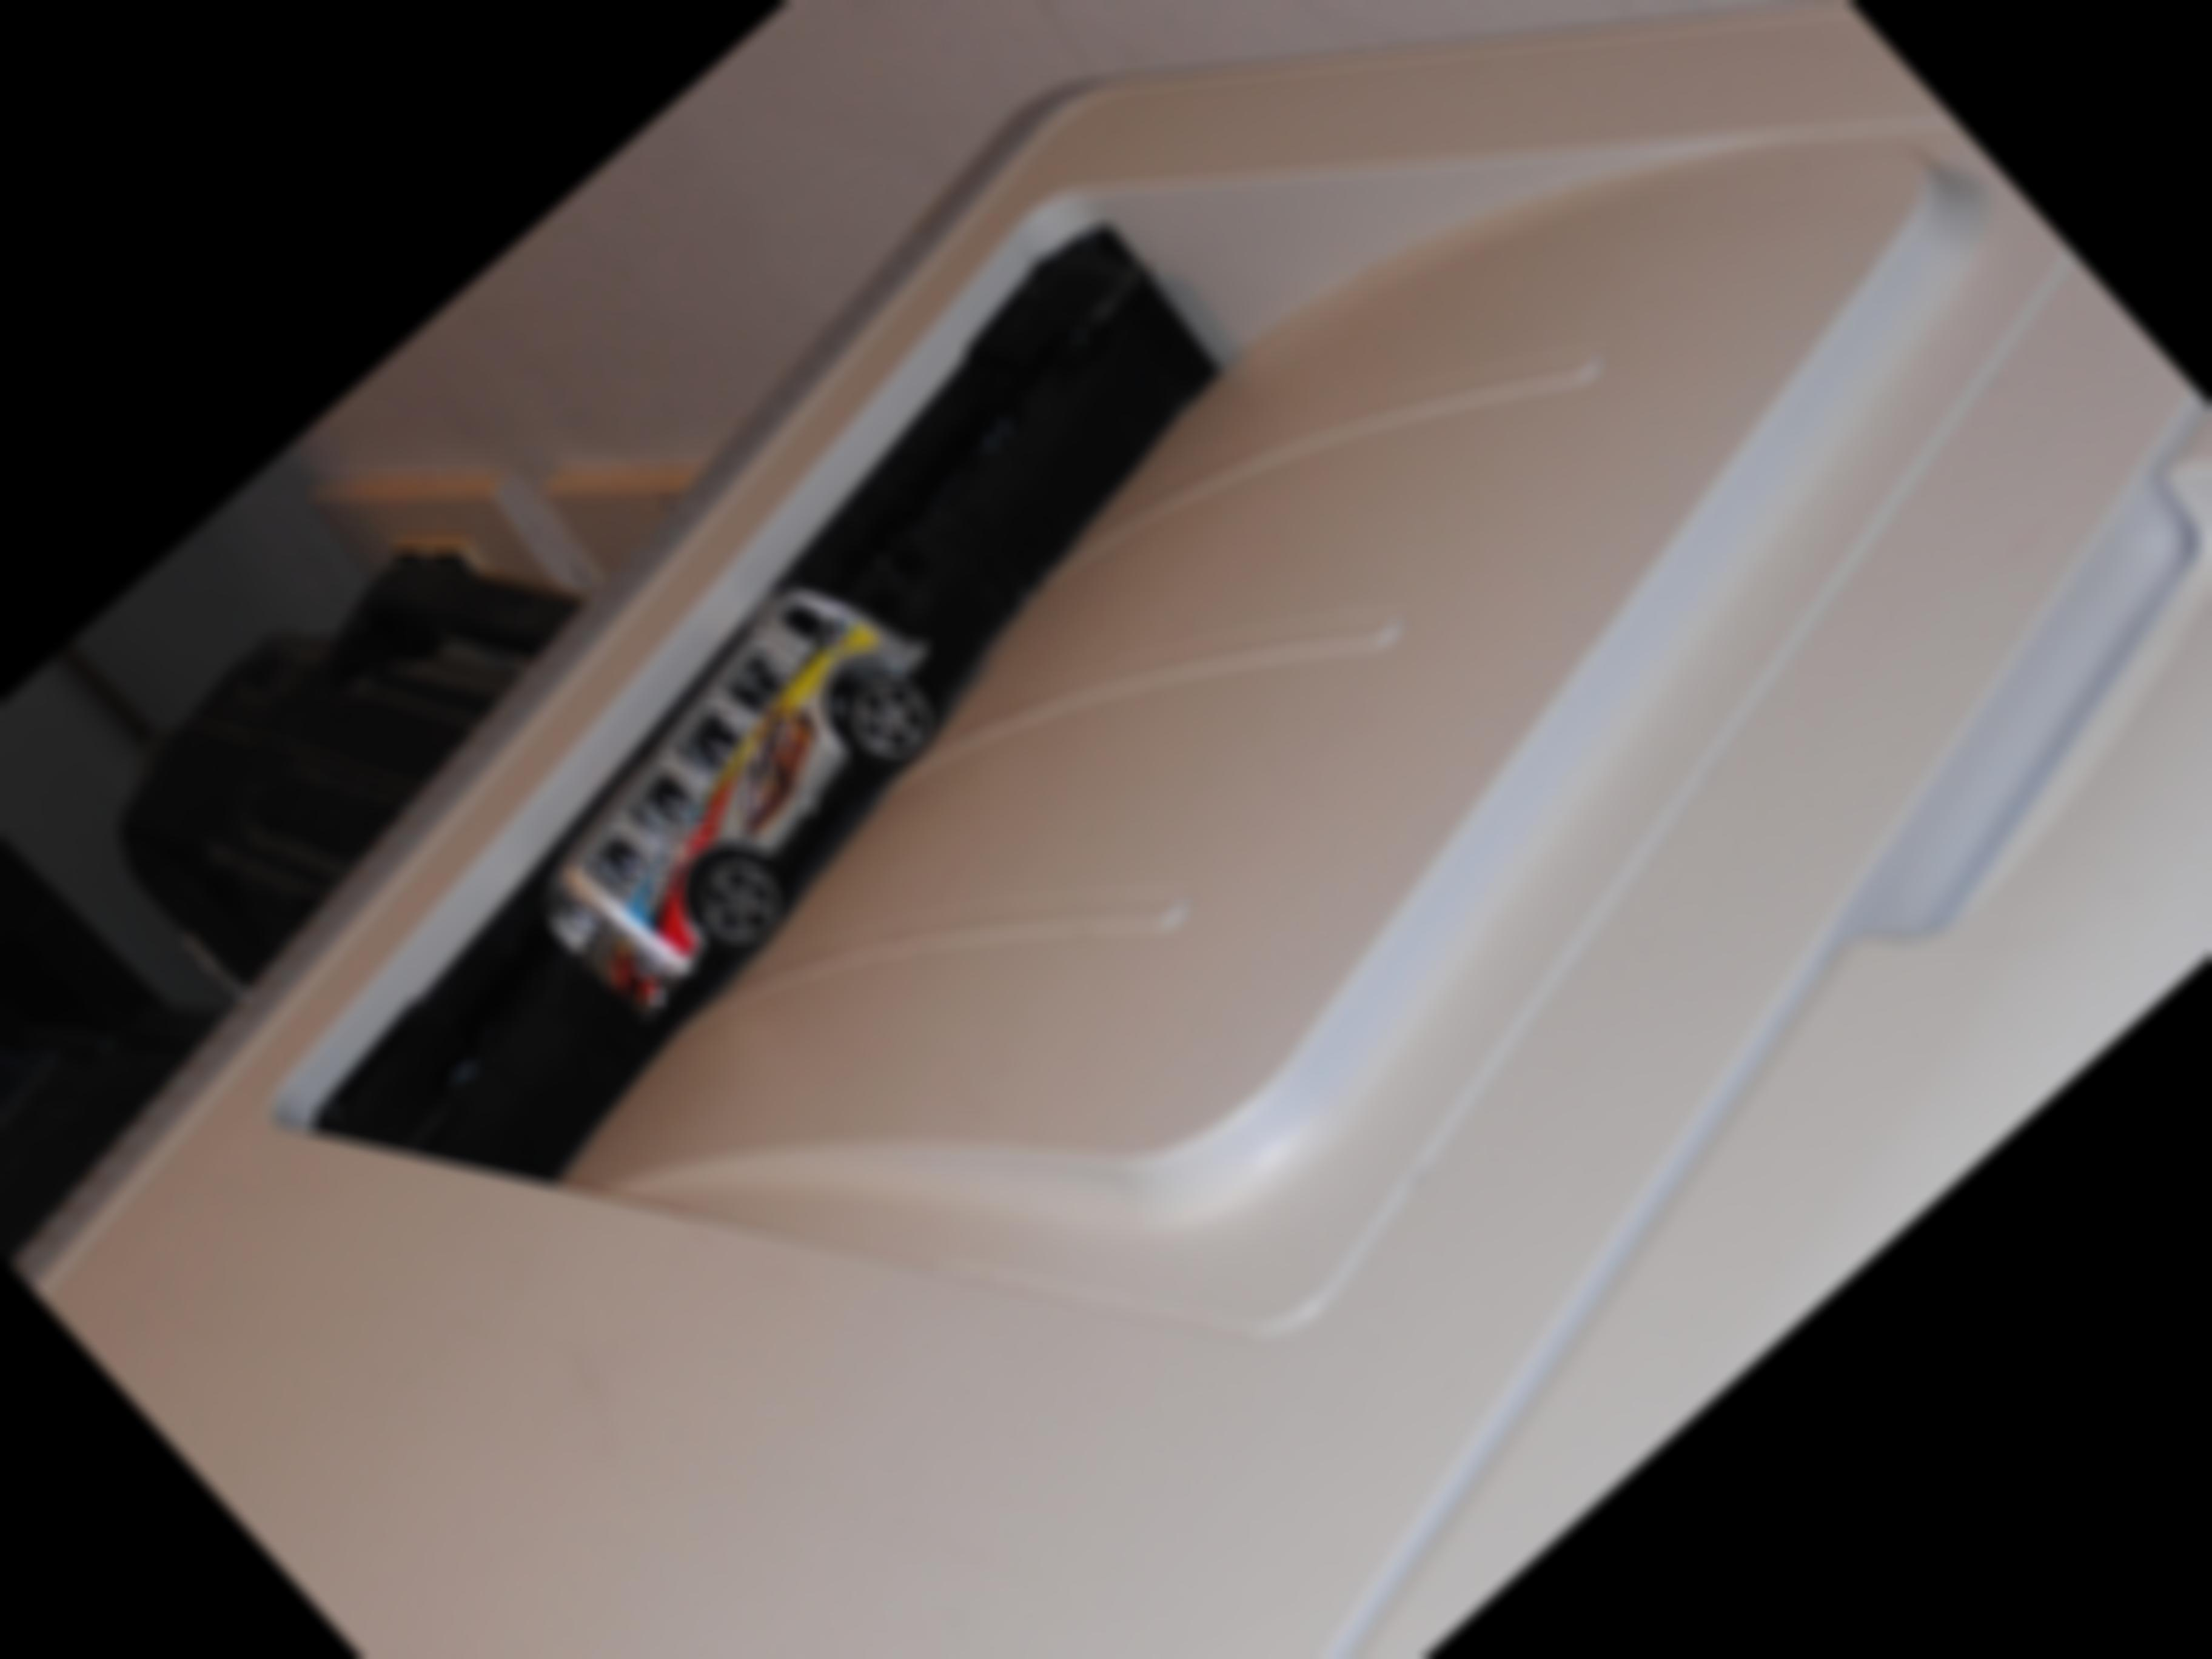Gray: (543, 580, 939, 1030)
